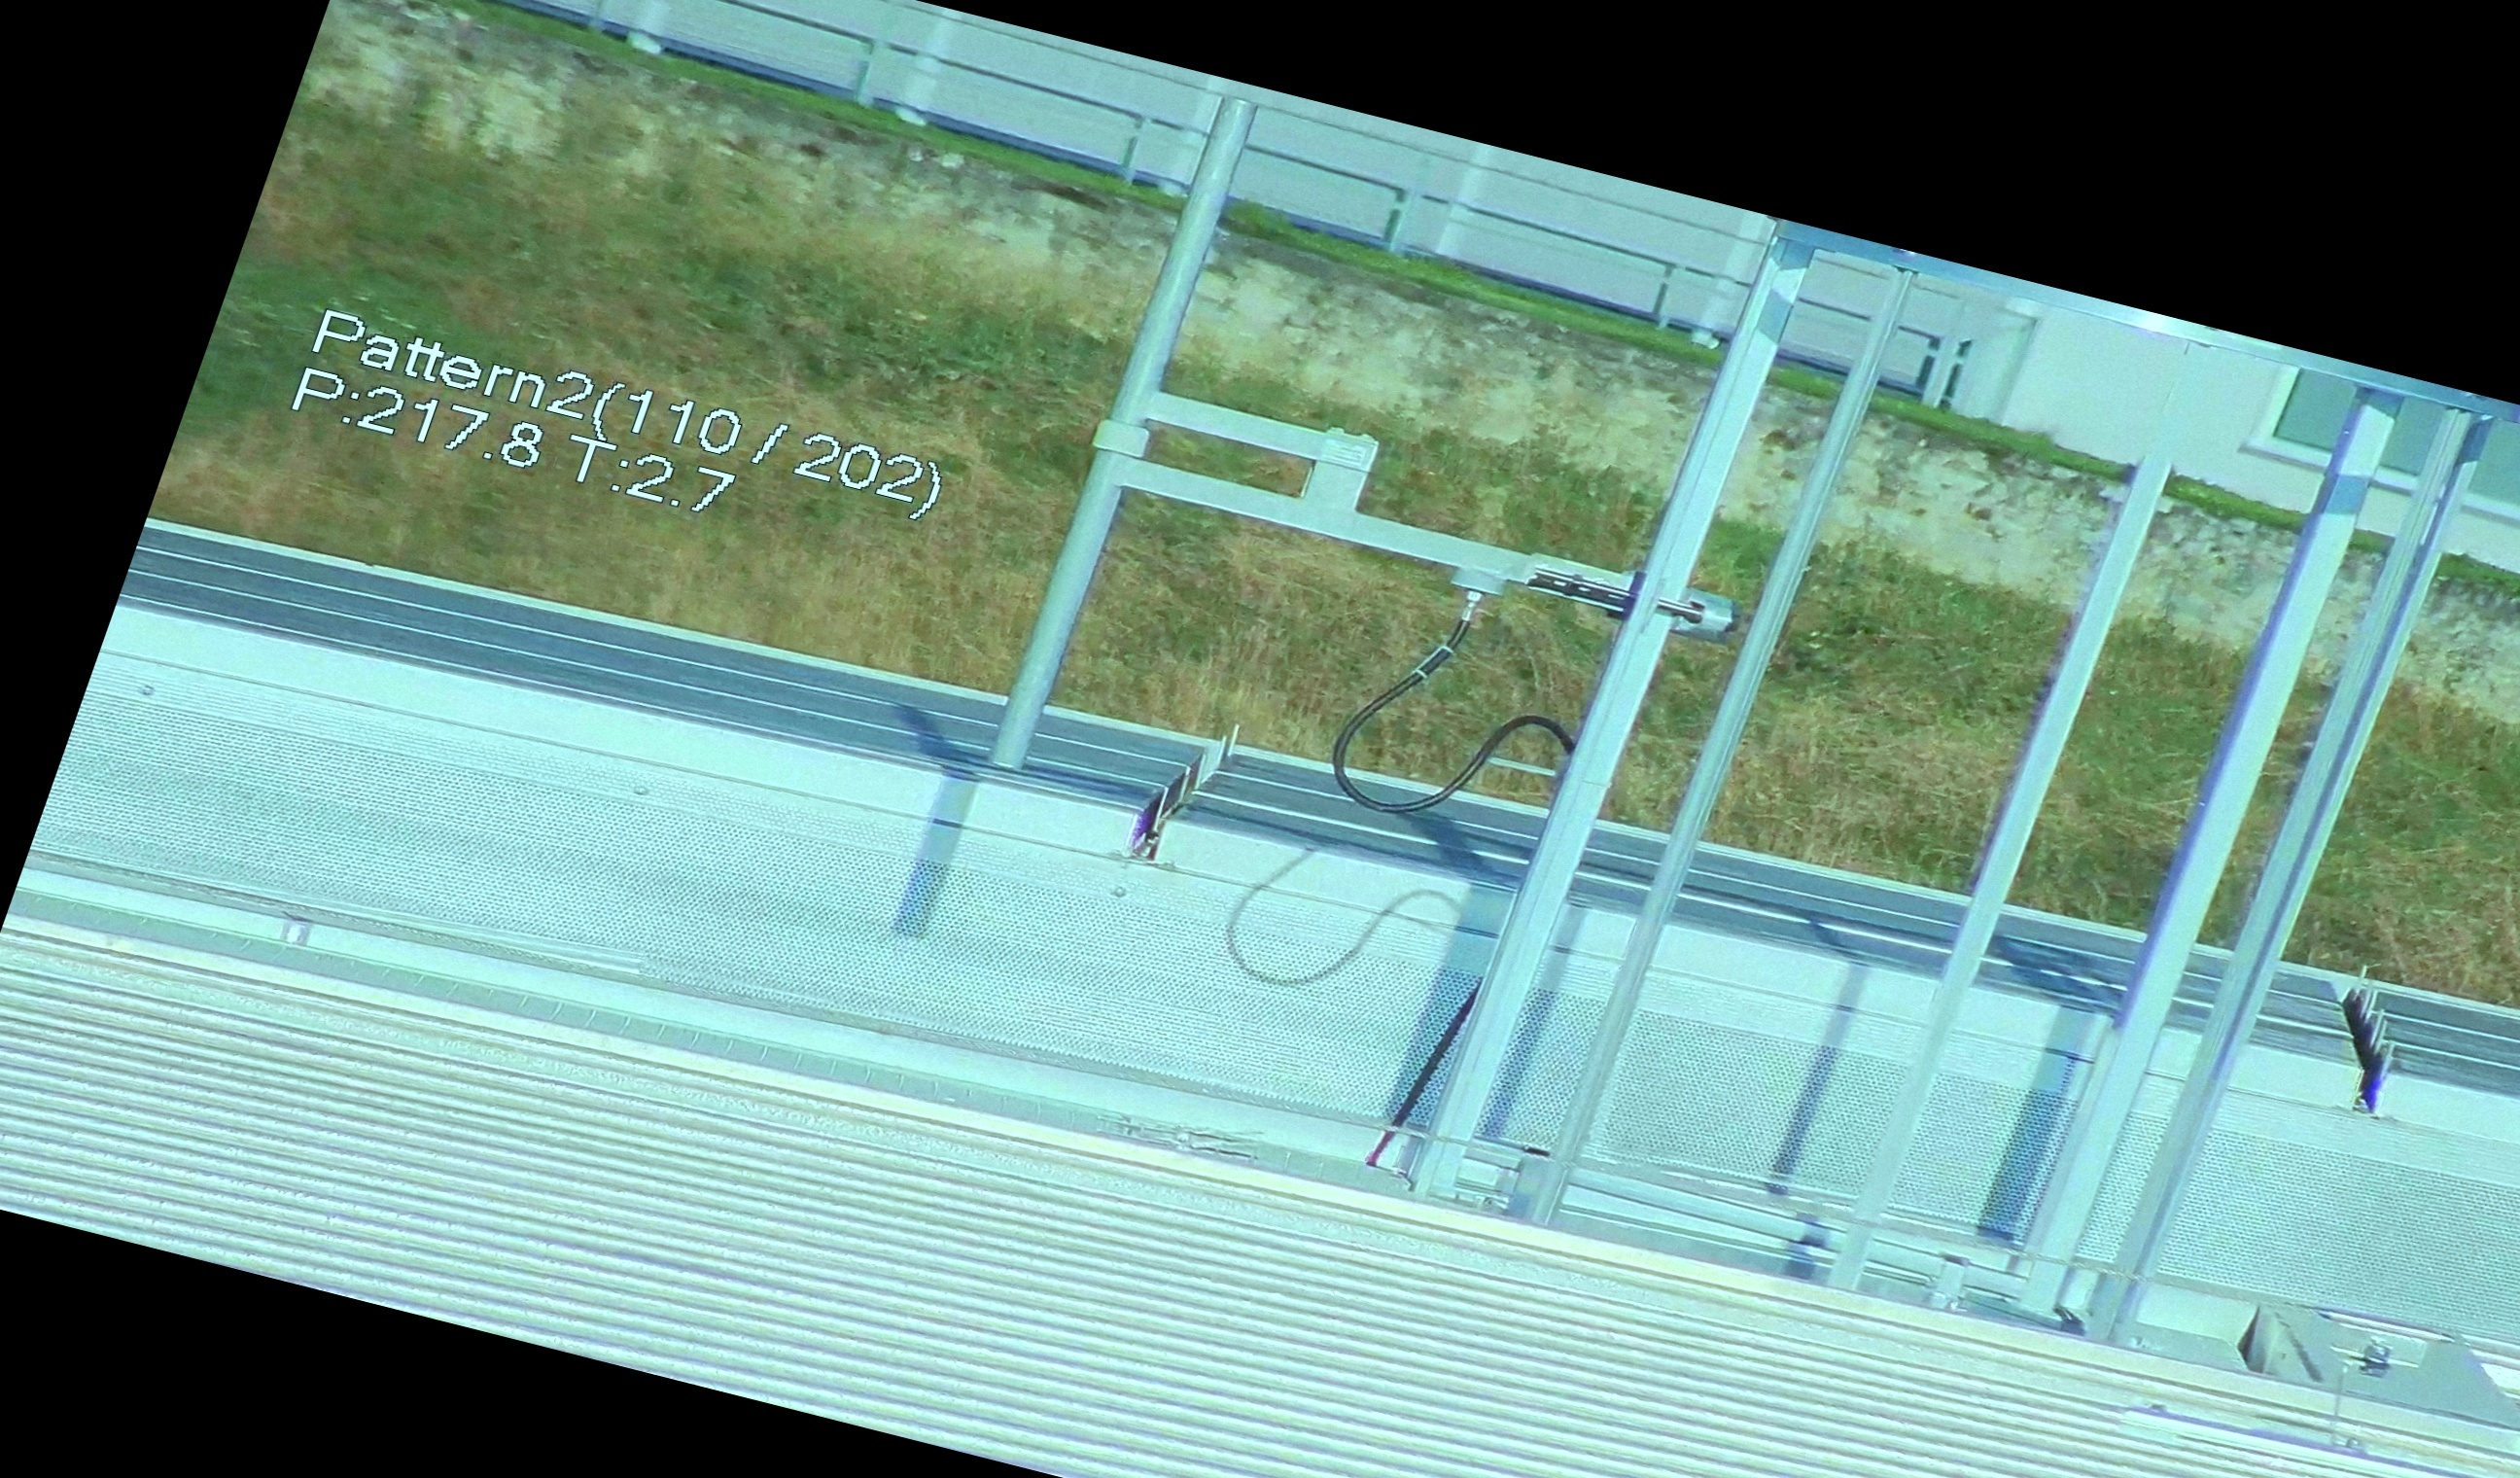Other: (2277, 954, 2464, 1135)
